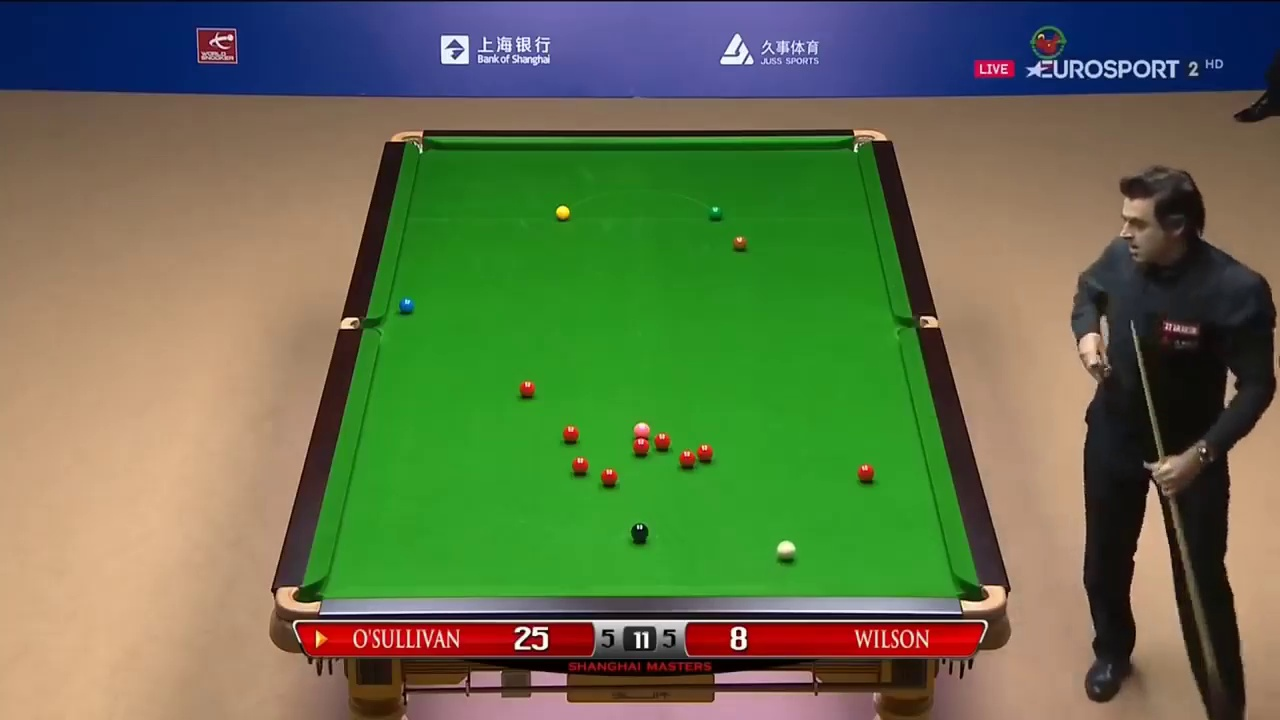ball: (774, 539, 801, 561), (858, 460, 875, 485), (397, 295, 417, 315), (676, 448, 694, 469), (551, 203, 570, 222), (517, 376, 536, 394), (732, 234, 750, 253), (599, 468, 617, 486), (631, 436, 649, 454), (569, 456, 588, 473), (629, 524, 649, 540), (696, 445, 712, 464), (563, 423, 578, 441), (706, 206, 722, 218)
